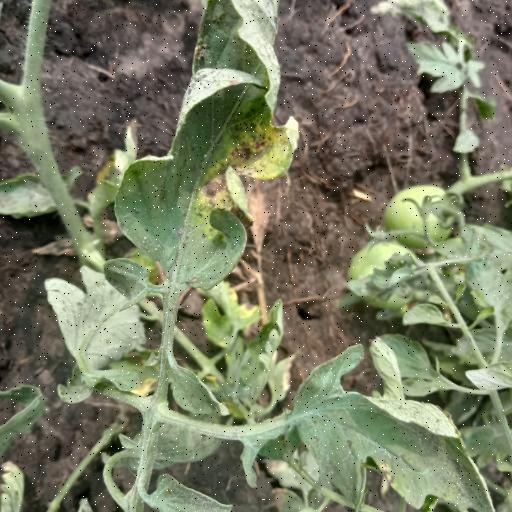Tomato_Brown_Spots: (104, 0, 307, 312), (268, 343, 500, 512)
